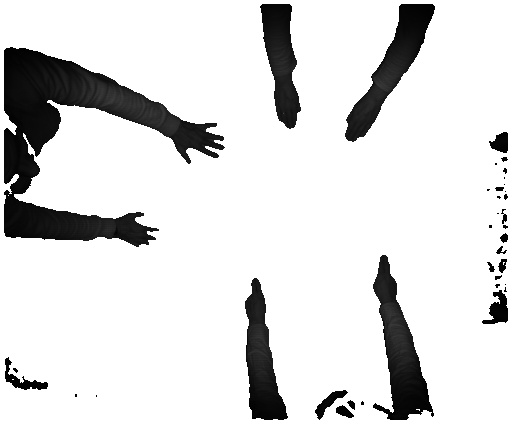hand: (179, 122, 231, 167), (344, 98, 381, 143), (368, 248, 399, 300), (240, 272, 271, 323), (118, 209, 159, 247), (272, 89, 303, 135)
